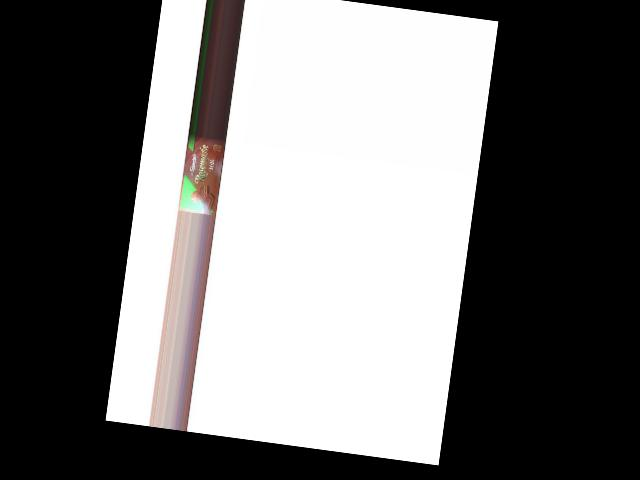chocolate: (179, 133, 226, 214)
